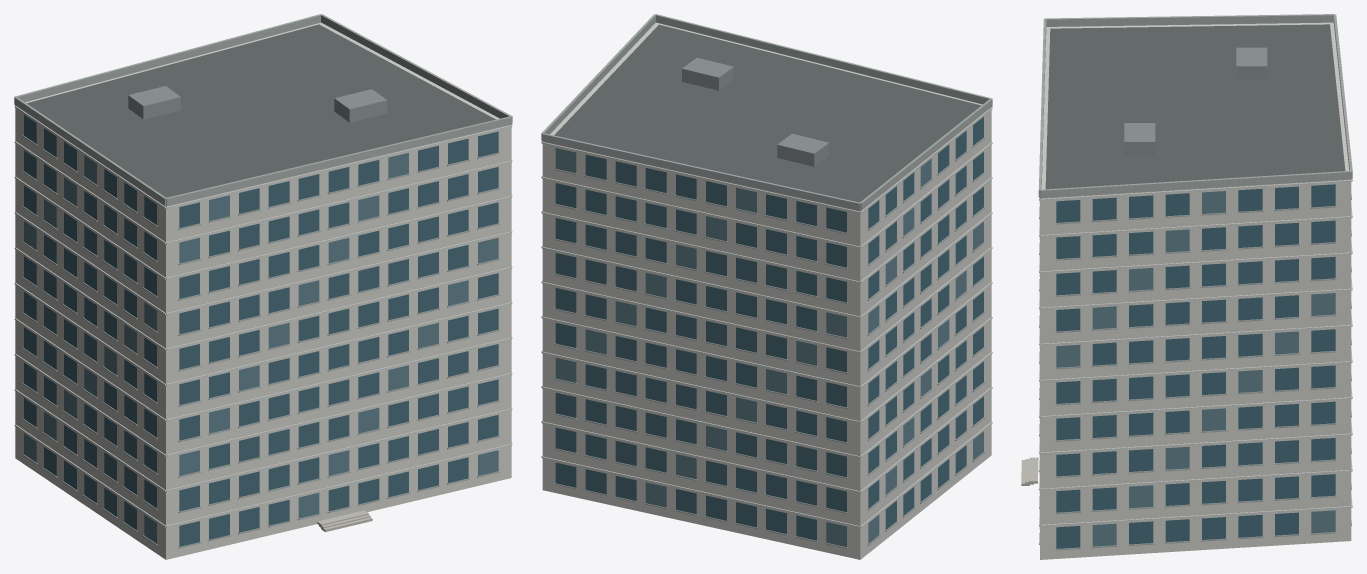
The model's file is 东侧办公园区-012.glb.
3 renders of one model, left to right at view 1: azimuth 30°, elevation 25°; view 2: azimuth 150°, elevation 25°; view 3: azimuth 270°, elevation 25°, orthographic. The views are drawn at different scales.
Visible parts, largest first — view 1: 东侧办公园区-012; view 2: 东侧办公园区-012; view 3: 东侧办公园区-012.
Part boxes in pixels (x1,y1,x2,y2): 东侧办公园区-012: [14, 14, 512, 559]; 东侧办公园区-012: [541, 14, 992, 559]; 东侧办公园区-012: [1021, 14, 1352, 559].
Size of the model in its own units: 37.69 by 37.42 by 29.87.
